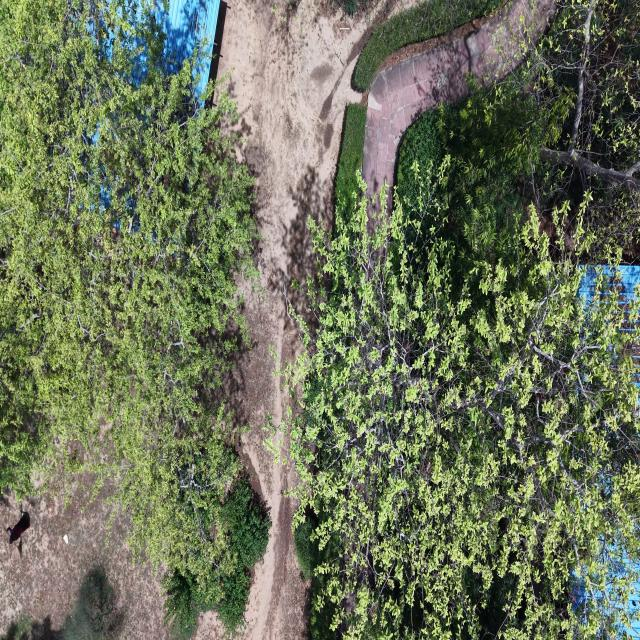DRY_AREA: (219, 0, 415, 639), (219, 0, 369, 639), (221, 2, 369, 639), (0, 488, 167, 639), (376, 0, 507, 73)
PATHWAYS: (363, 0, 555, 195)
VEGETATION_TREE: (289, 0, 639, 639), (289, 0, 639, 638), (0, 0, 269, 629), (290, 200, 639, 638), (0, 2, 255, 488), (398, 2, 639, 261), (458, 0, 639, 260), (515, 0, 639, 260), (395, 82, 545, 286), (121, 416, 245, 634), (163, 474, 270, 632), (353, 0, 501, 91), (353, 0, 500, 91), (2, 566, 126, 639), (217, 475, 270, 629), (293, 508, 341, 639), (55, 566, 125, 639), (396, 110, 446, 202), (335, 104, 366, 210), (294, 513, 317, 579), (0, 617, 31, 639), (331, 0, 366, 15)
